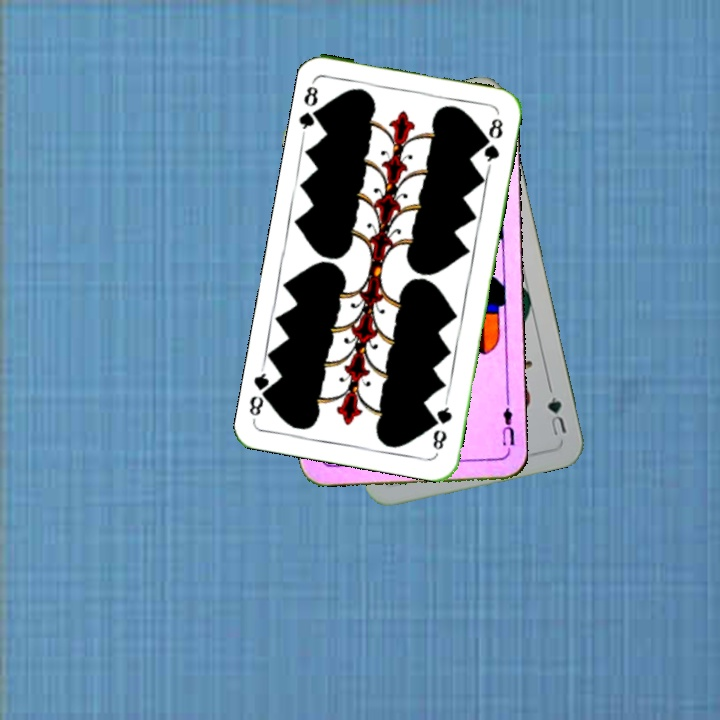EU: (498, 396, 517, 455)
G8: (295, 78, 326, 137), (428, 396, 455, 453)
GU: (543, 392, 569, 440)
